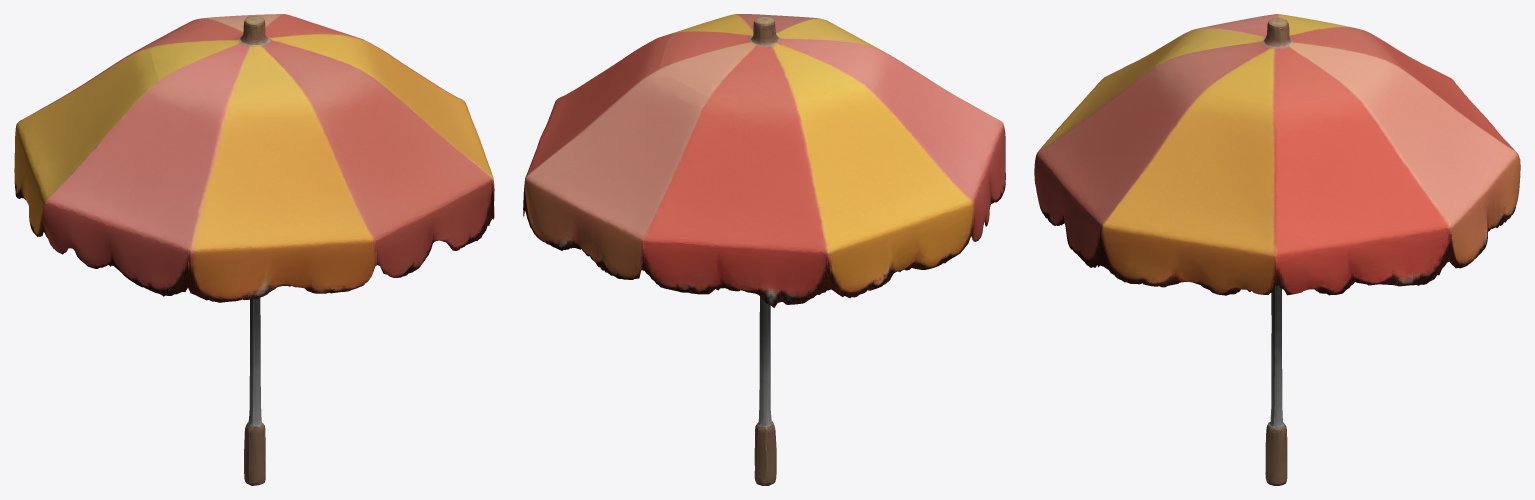
Rendered from A-3D-game-asset-of-a-large-colorful-market-umbre.glb.
The picture shows the model from 3 angles, left to right: view 1: azimuth 30°, elevation 25°; view 2: azimuth 150°, elevation 25°; view 3: azimuth 270°, elevation 25°; orthographic projection.
Visible parts, largest first — view 1: geometry_0; view 2: geometry_0; view 3: geometry_0.
Part boxes in pixels (left/top/right/bottom): geometry_0: left=14, top=14, right=494, bottom=485; geometry_0: left=523, top=14, right=1005, bottom=485; geometry_0: left=1034, top=14, right=1520, bottom=485.
Bounding box in the file's own units: 0.4584 × 0.48 × 0.4586.
Materials: 1 (1 with a texture image).
